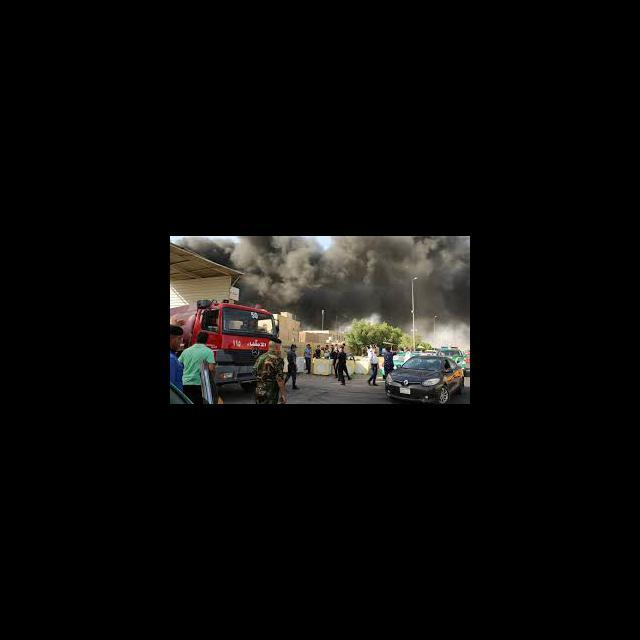Smoke: (175, 236, 470, 329)
